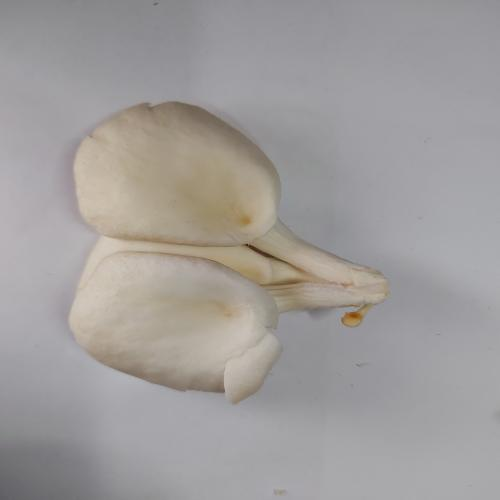Oyster Mushroom: (67, 100, 390, 405)
